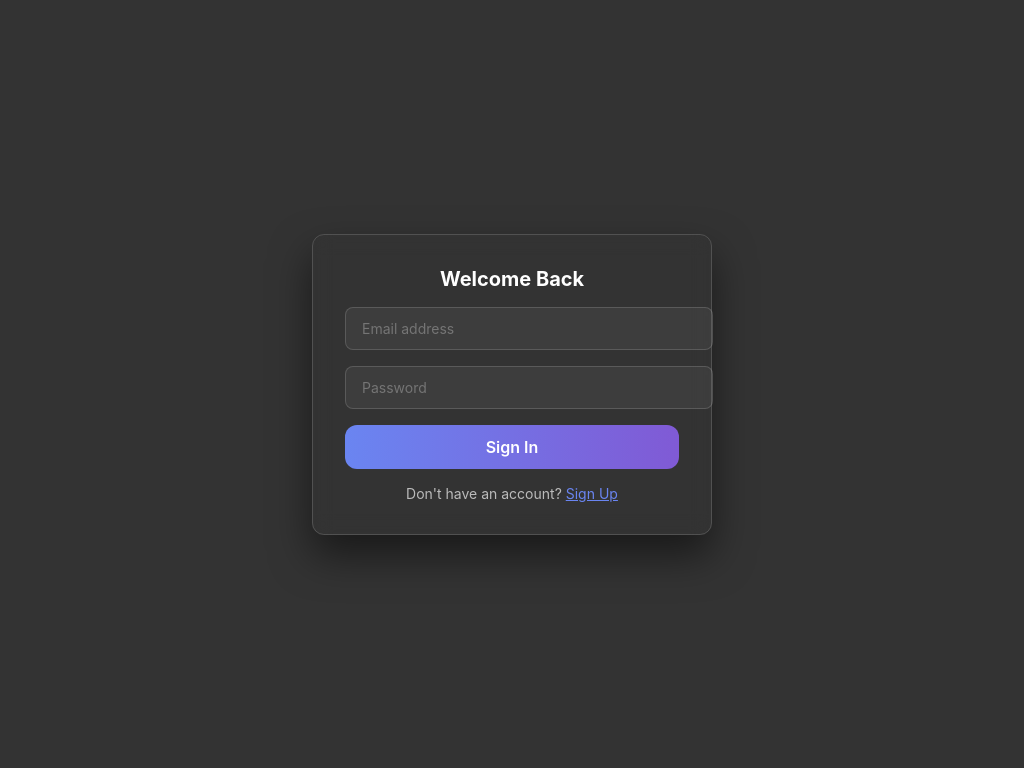
Test: LoginModal component › shows error when login fails
The image size is (1024, 768).
Type "bad@example.com" into the field with placeholder "Email address". click: (529, 329)
box: 345,307 -> 713,350
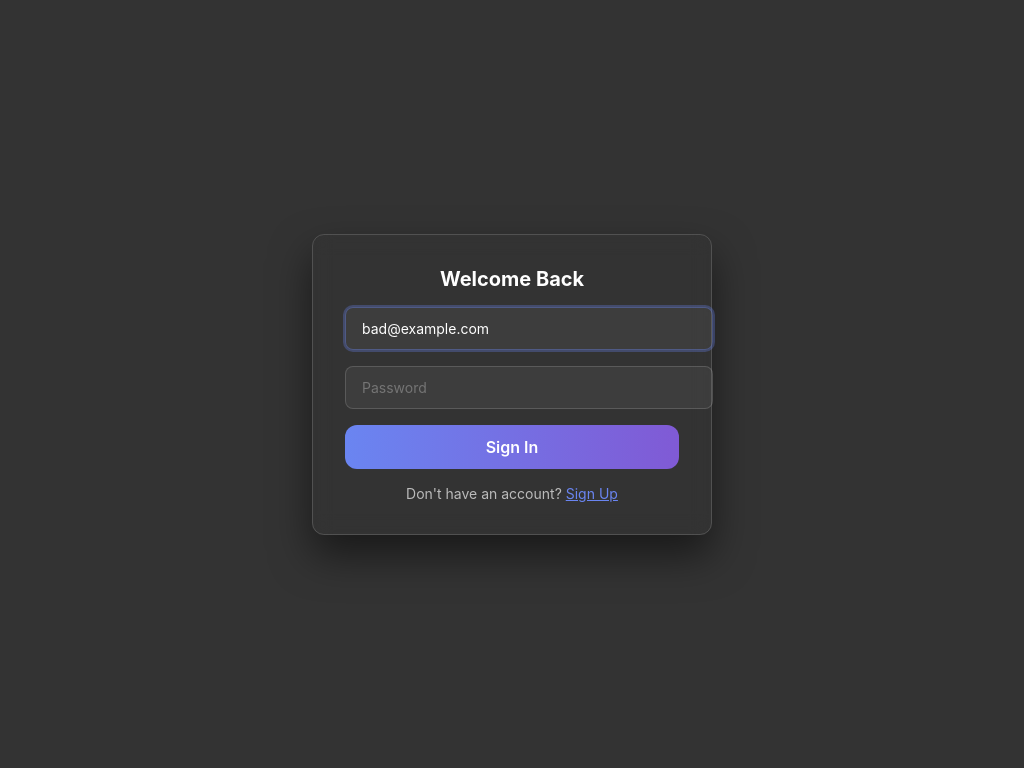
Type "wrong" into the password field with placeholder "Password". click: (529, 388)
box: 345,366 -> 713,409
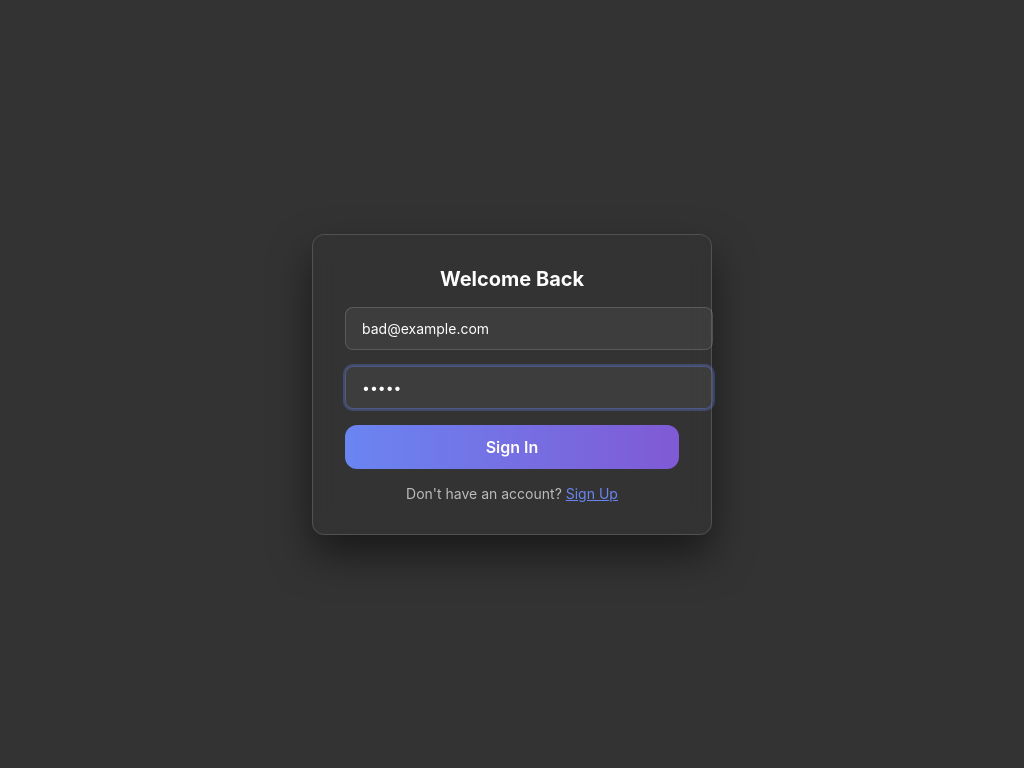
Click the button "Sign In". click: (512, 447)
box: 345,425 -> 679,469
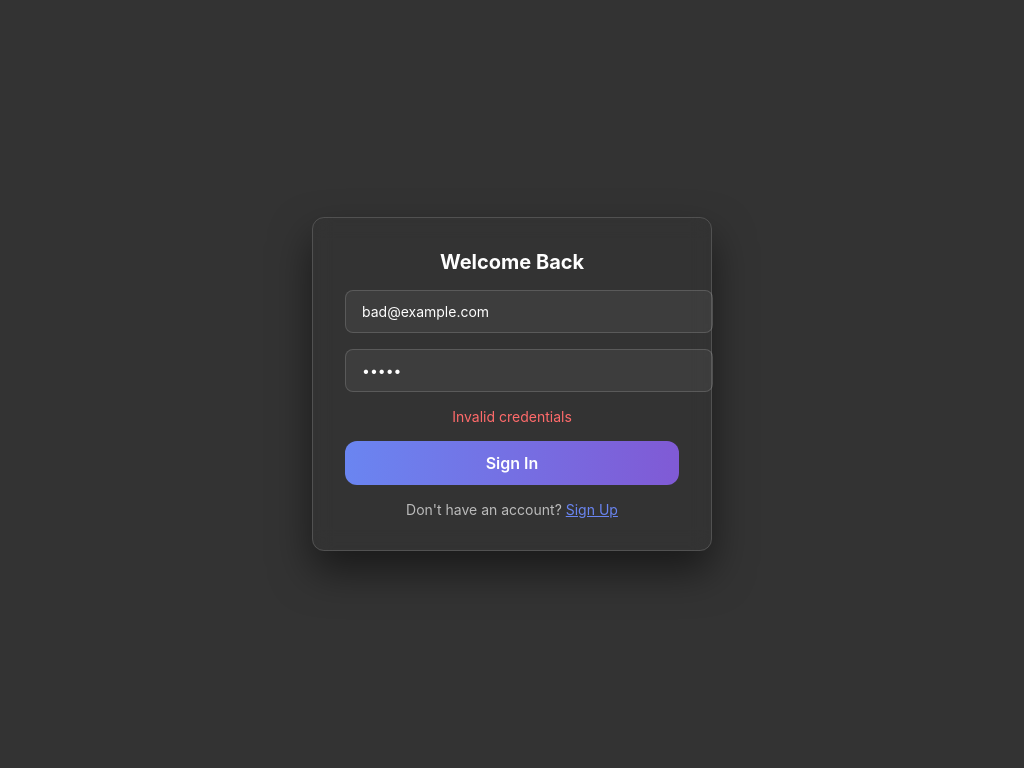
Expected: the text "Invalid credentials" is shown, 452,408 -> 572,425
